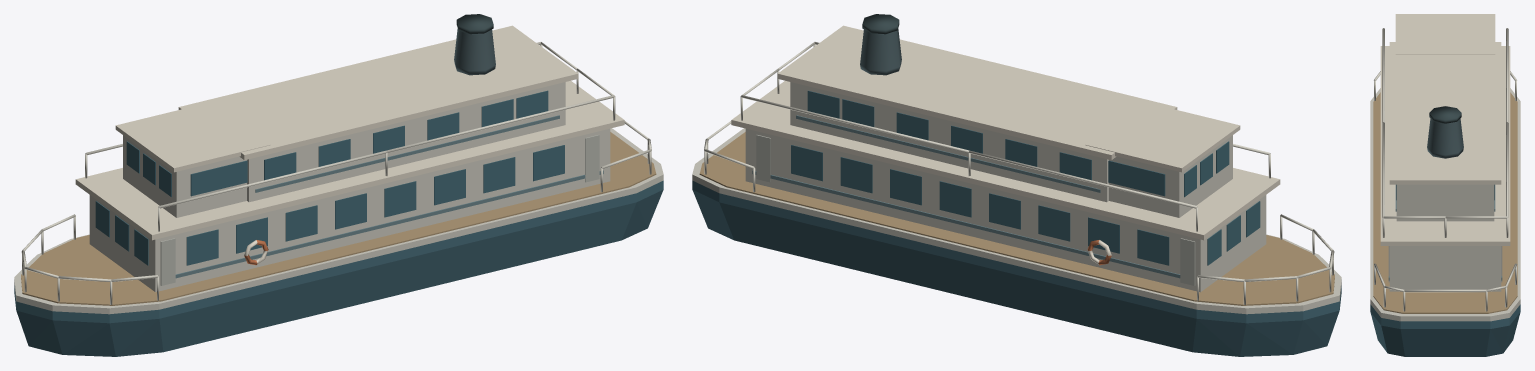
File: ferry_far.glb
3 views of the same model, side by side, from view 1: azimuth 30°, elevation 25°; view 2: azimuth 150°, elevation 25°; view 3: azimuth 270°, elevation 25° (orthographic). The views are drawn at different scales.
Parts seen in each view (by area): view 1: ferry_far; view 2: ferry_far; view 3: ferry_far.
Boxes of the visible parts, x1,y1,x2,y2 form: ferry_far: (14, 14, 663, 356); ferry_far: (692, 14, 1341, 356); ferry_far: (1370, 14, 1520, 356).
Size of the model in its own units: 25 by 8.68 by 6.2.
